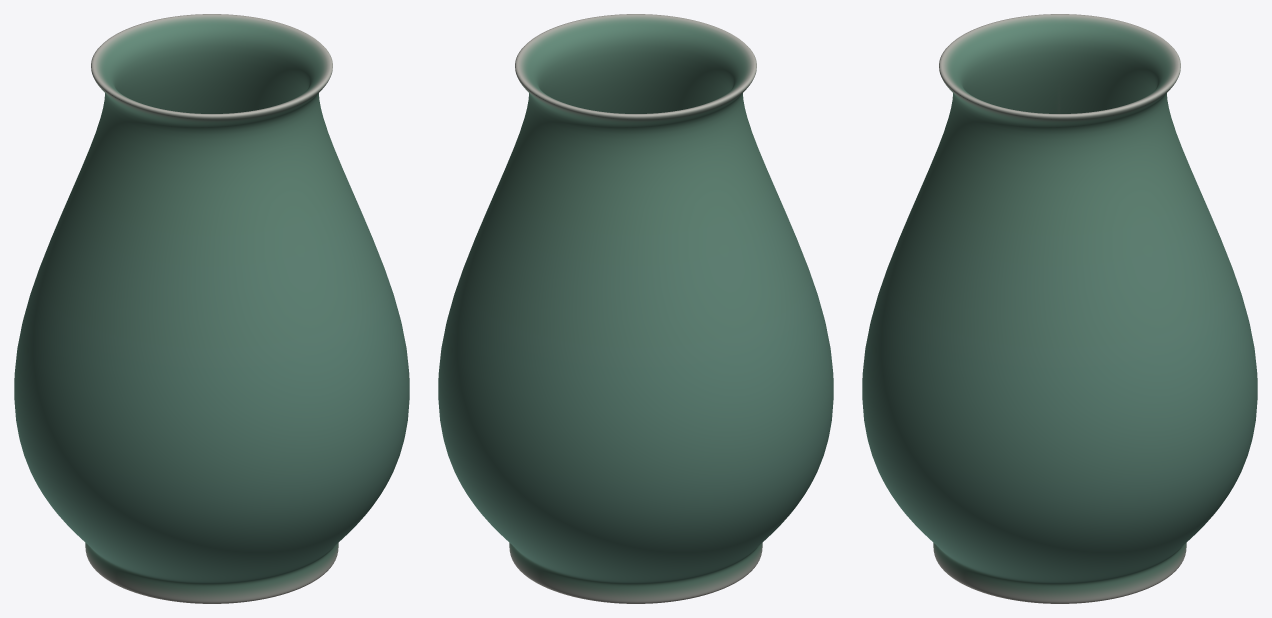
Rendered from Vase_green.fbx.
The picture shows the model from 3 angles, left to right: view 1: azimuth 30°, elevation 25°; view 2: azimuth 150°, elevation 25°; view 3: azimuth 270°, elevation 25°; orthographic projection.
Visible parts, largest first — view 1: Vase; view 2: Vase; view 3: Vase.
Boxes of the visible parts, x1,y1,x2,y2 form: Vase: [14, 14, 409, 603]; Vase: [438, 14, 833, 603]; Vase: [862, 14, 1257, 603].
Size of the model in its own units: 11.39 by 15.49 by 11.39.
1 material, 1 textured.
